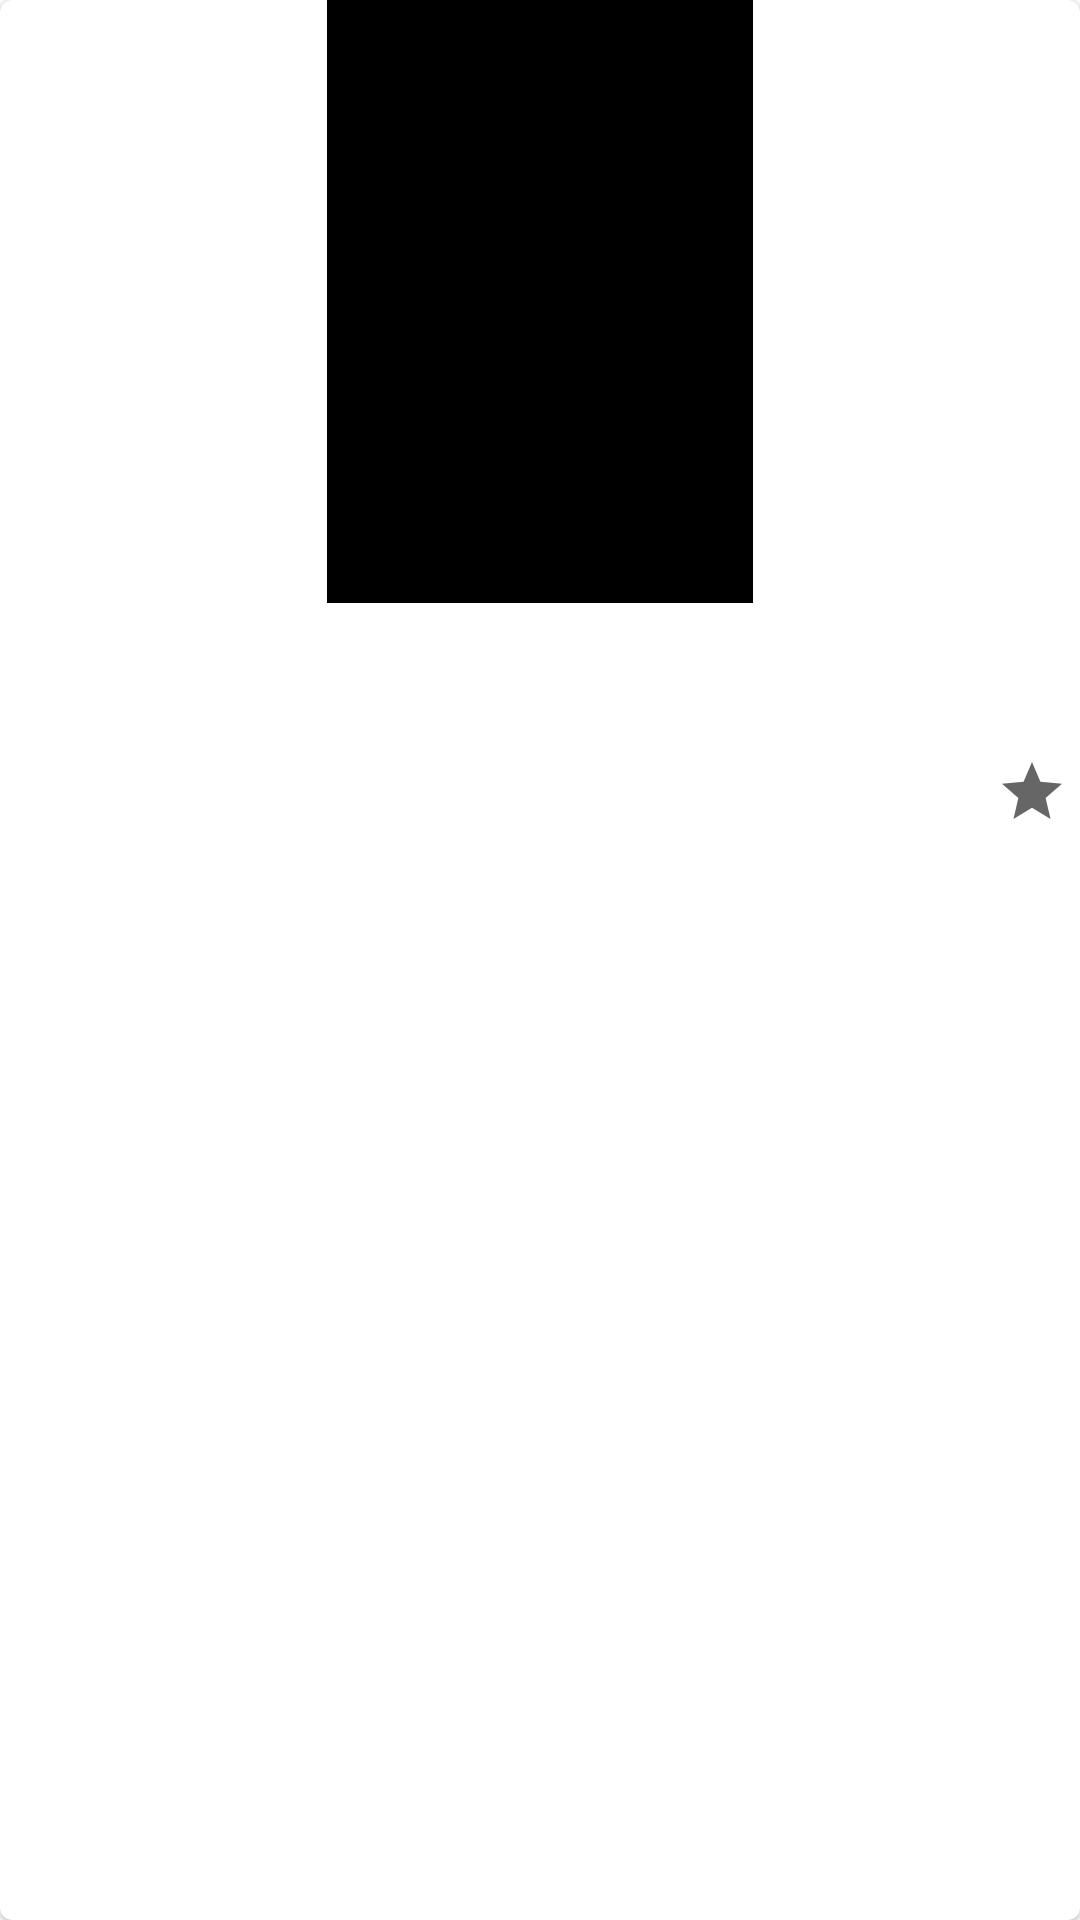

Icon bounding boxes for this 1080w x 1920h phone screenshot, format (x1, y1, x2, y2):
favorite icon: (1002, 762, 1062, 819)
